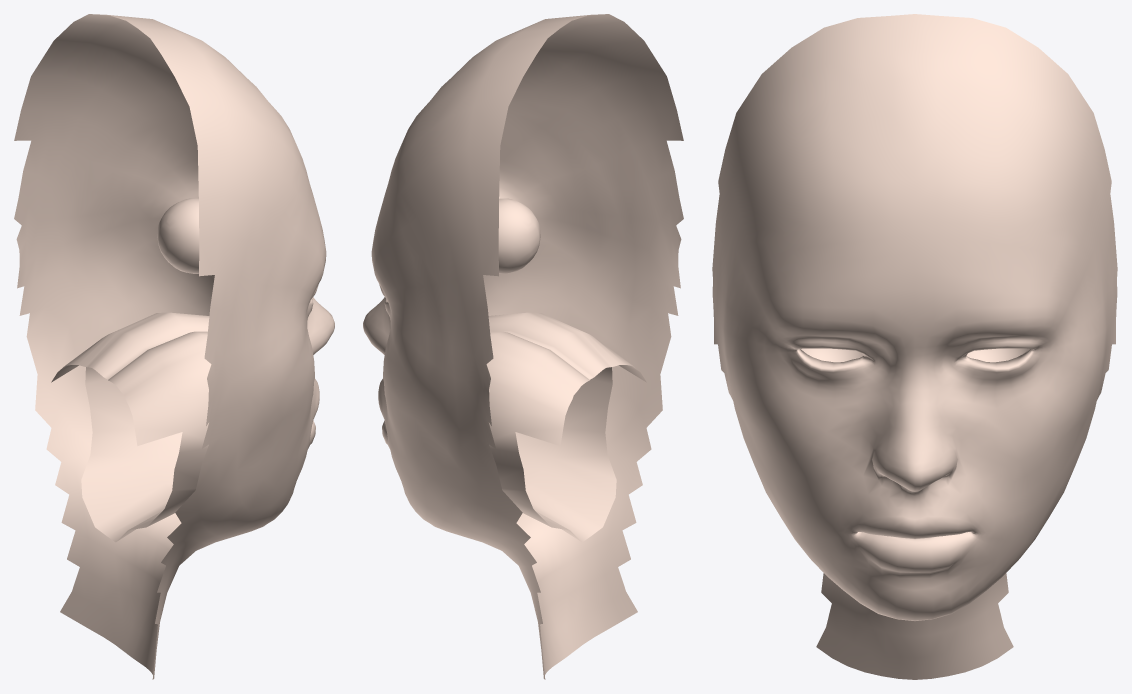
The model's file is eliza_face_donor.glb.
3 renders of one model, left to right at view 1: azimuth 30°, elevation 25°; view 2: azimuth 150°, elevation 25°; view 3: azimuth 270°, elevation 25°, orthographic. The views are drawn at different scales.
Visible parts, largest first — view 1: eliza_face_donor; view 2: eliza_face_donor; view 3: eliza_face_donor.
Part boxes in pixels (x1=…): eliza_face_donor: x1=14, y1=14, x2=334, y2=679; eliza_face_donor: x1=363, y1=14, x2=683, y2=679; eliza_face_donor: x1=712, y1=14, x2=1117, y2=679.
Size of the model in its own units: 0.0652 by 0.1635 by 0.0898.
